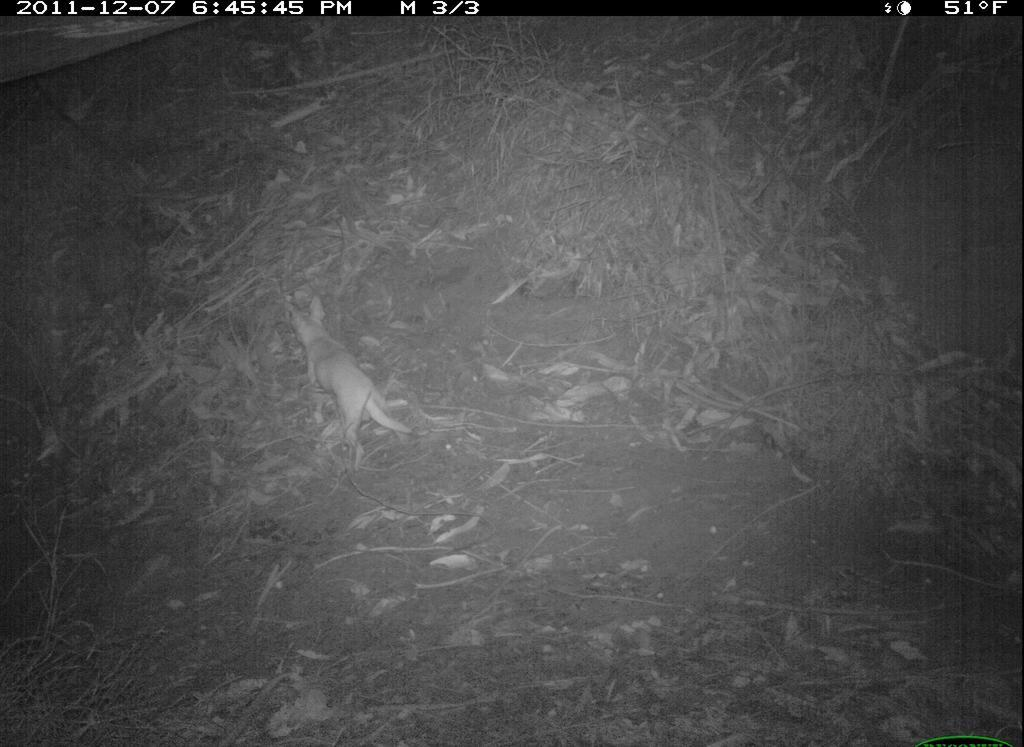dog: (268, 282, 420, 469)
